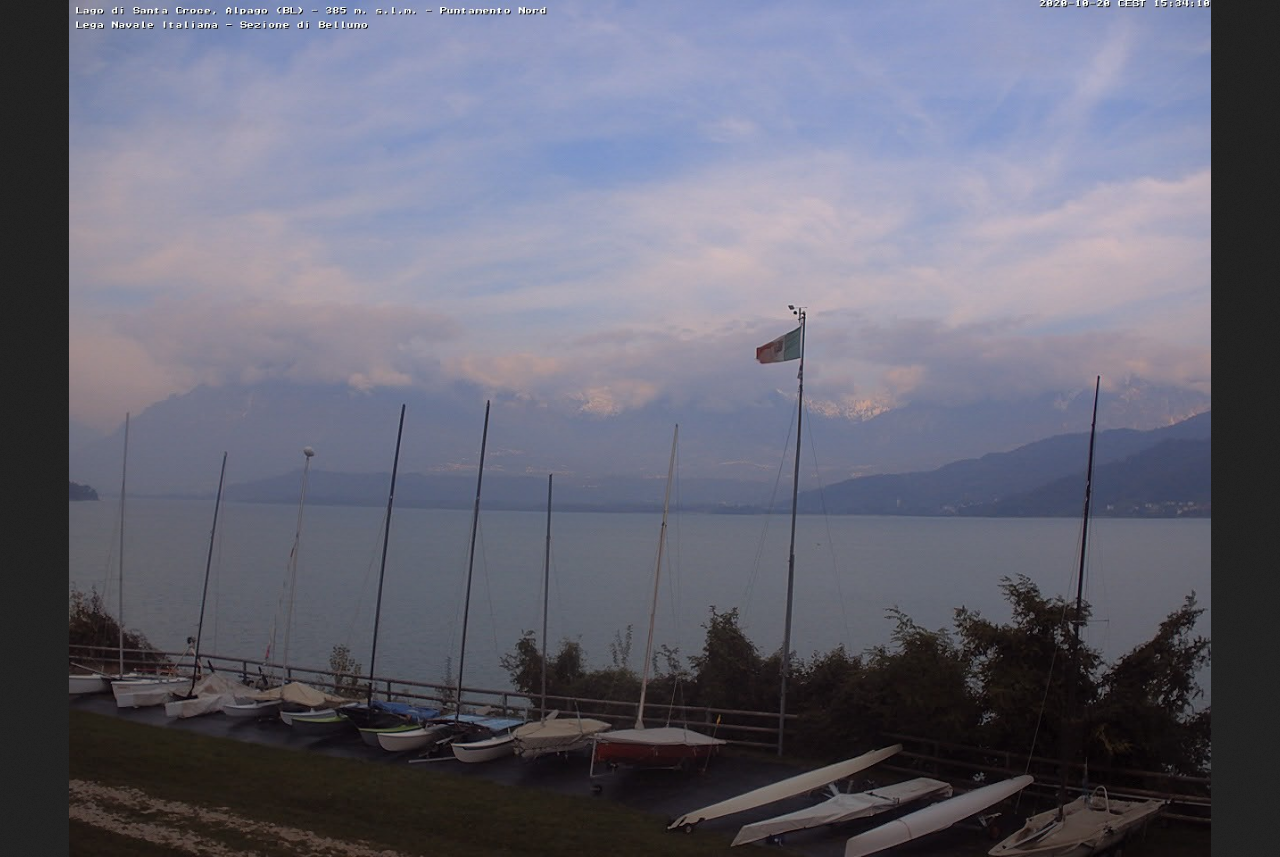maybe: (751, 319, 808, 372)
